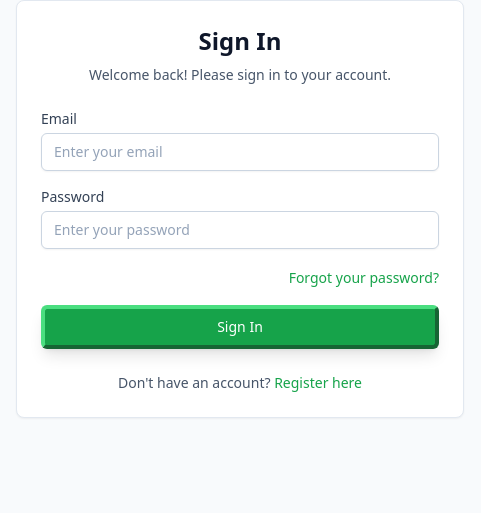
Test: LoginPage › should display error message on login failure
Type "test@example.com" into the field labelled "Email" at point(240, 152), box [41,133,439,171]
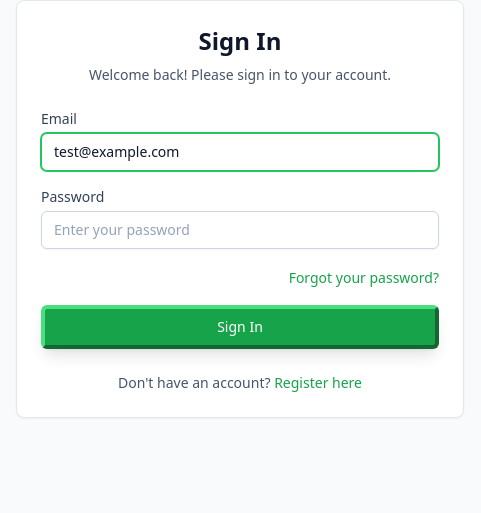
Type "wrong" into the password field labelled "Password" at point(240, 230), box [41,211,439,249]
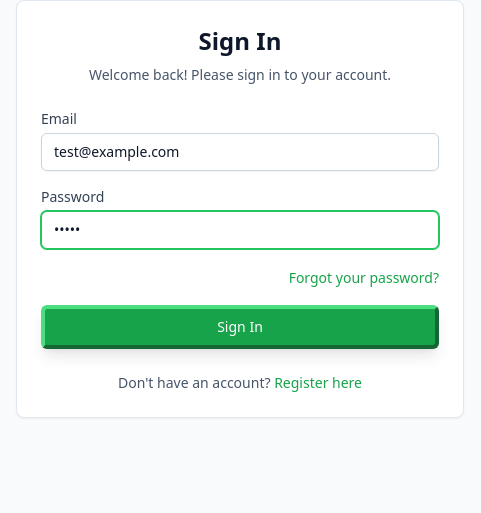
Click the button "Sign In" at point(240, 327), box [41,305,439,349]
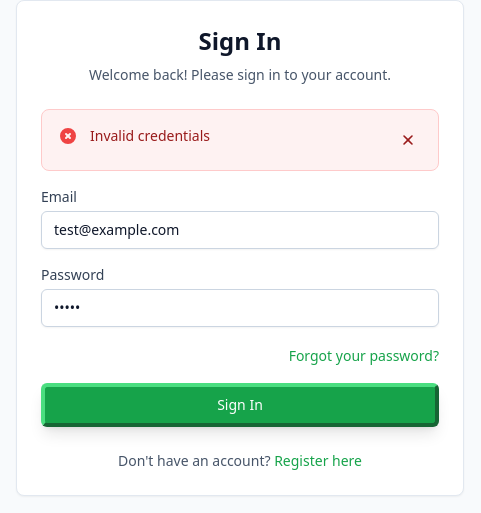
Now the message reads "Invalid credentials", box [90,126,210,145]
